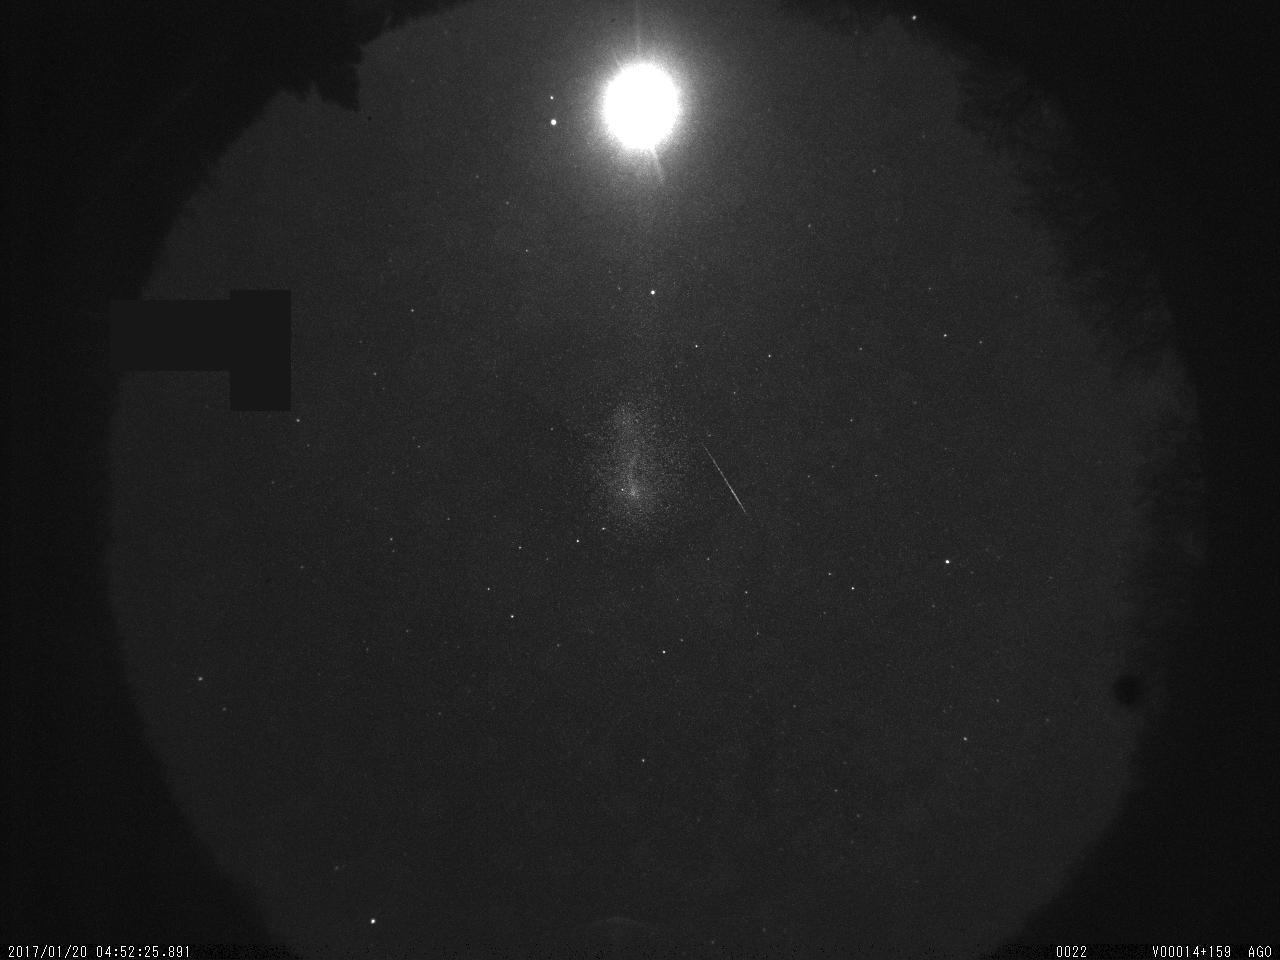Meteor: (698, 438, 756, 534)
